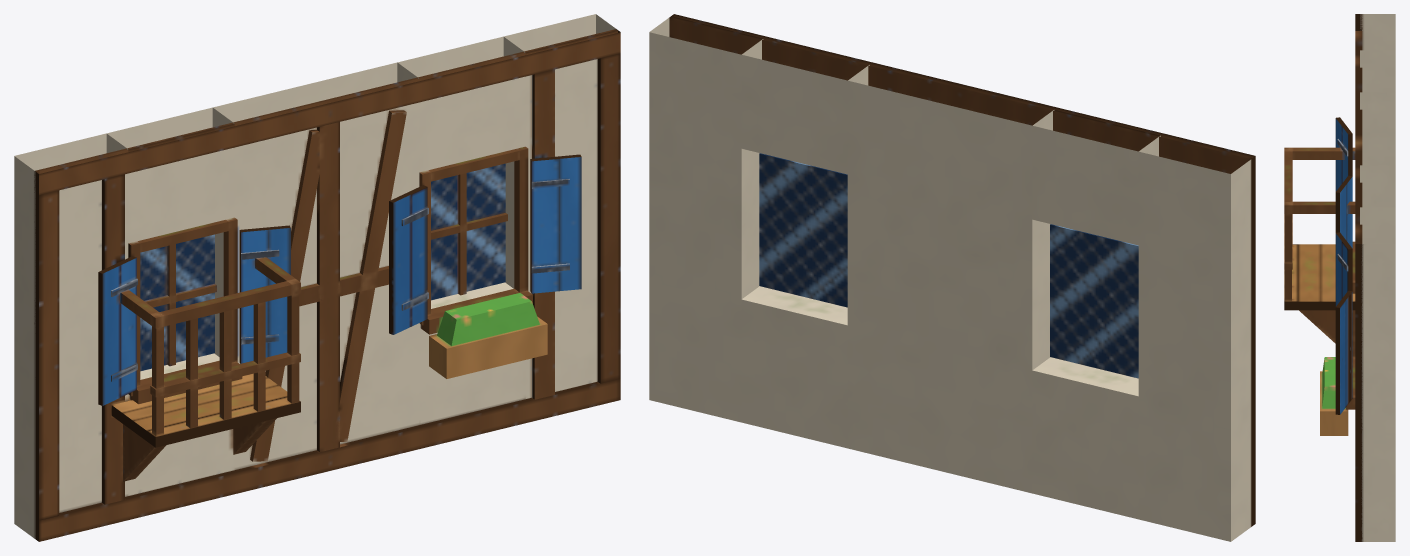
Rendered from Kit_House_Upper2.fbx.
3 renders of one model, left to right at view 1: azimuth 30°, elevation 25°; view 2: azimuth 150°, elevation 25°; view 3: azimuth 270°, elevation 25°, orthographic. The views are drawn at different scales.
Parts seen in each view (by area): view 1: Kit_House_Upper2_LOD0; view 2: Kit_House_Upper2_LOD0; view 3: Kit_House_Upper2_LOD0.
Part boxes in pixels (box(x1,y1,x2,y2)): Kit_House_Upper2_LOD0: box(14, 14, 620, 541); Kit_House_Upper2_LOD0: box(649, 14, 1255, 541); Kit_House_Upper2_LOD0: box(1284, 14, 1395, 541).
Size of what is drawn, in the model's own units: 4.6 by 2.78 by 0.94.
Materials: 1 (1 with a texture image).
